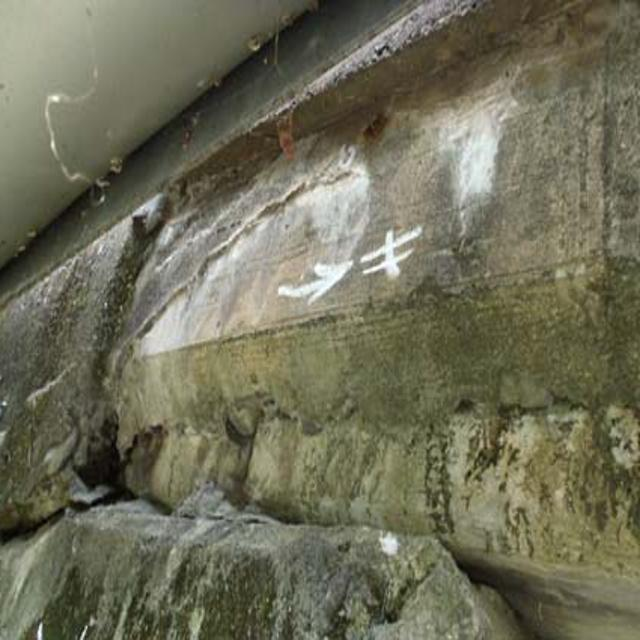freelime: (441, 61, 536, 243)
